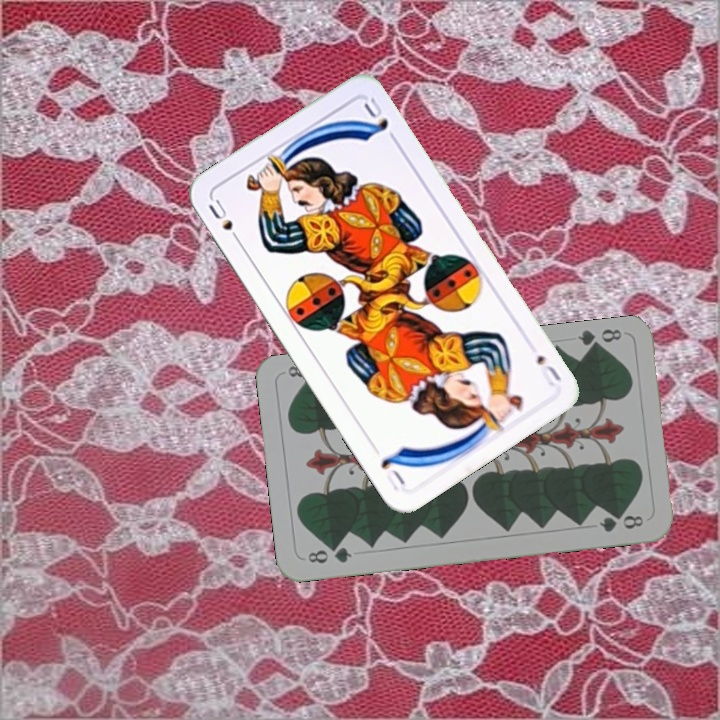G8: (574, 325, 624, 354), (303, 542, 355, 566)
SU: (204, 195, 245, 248), (532, 351, 564, 389)
